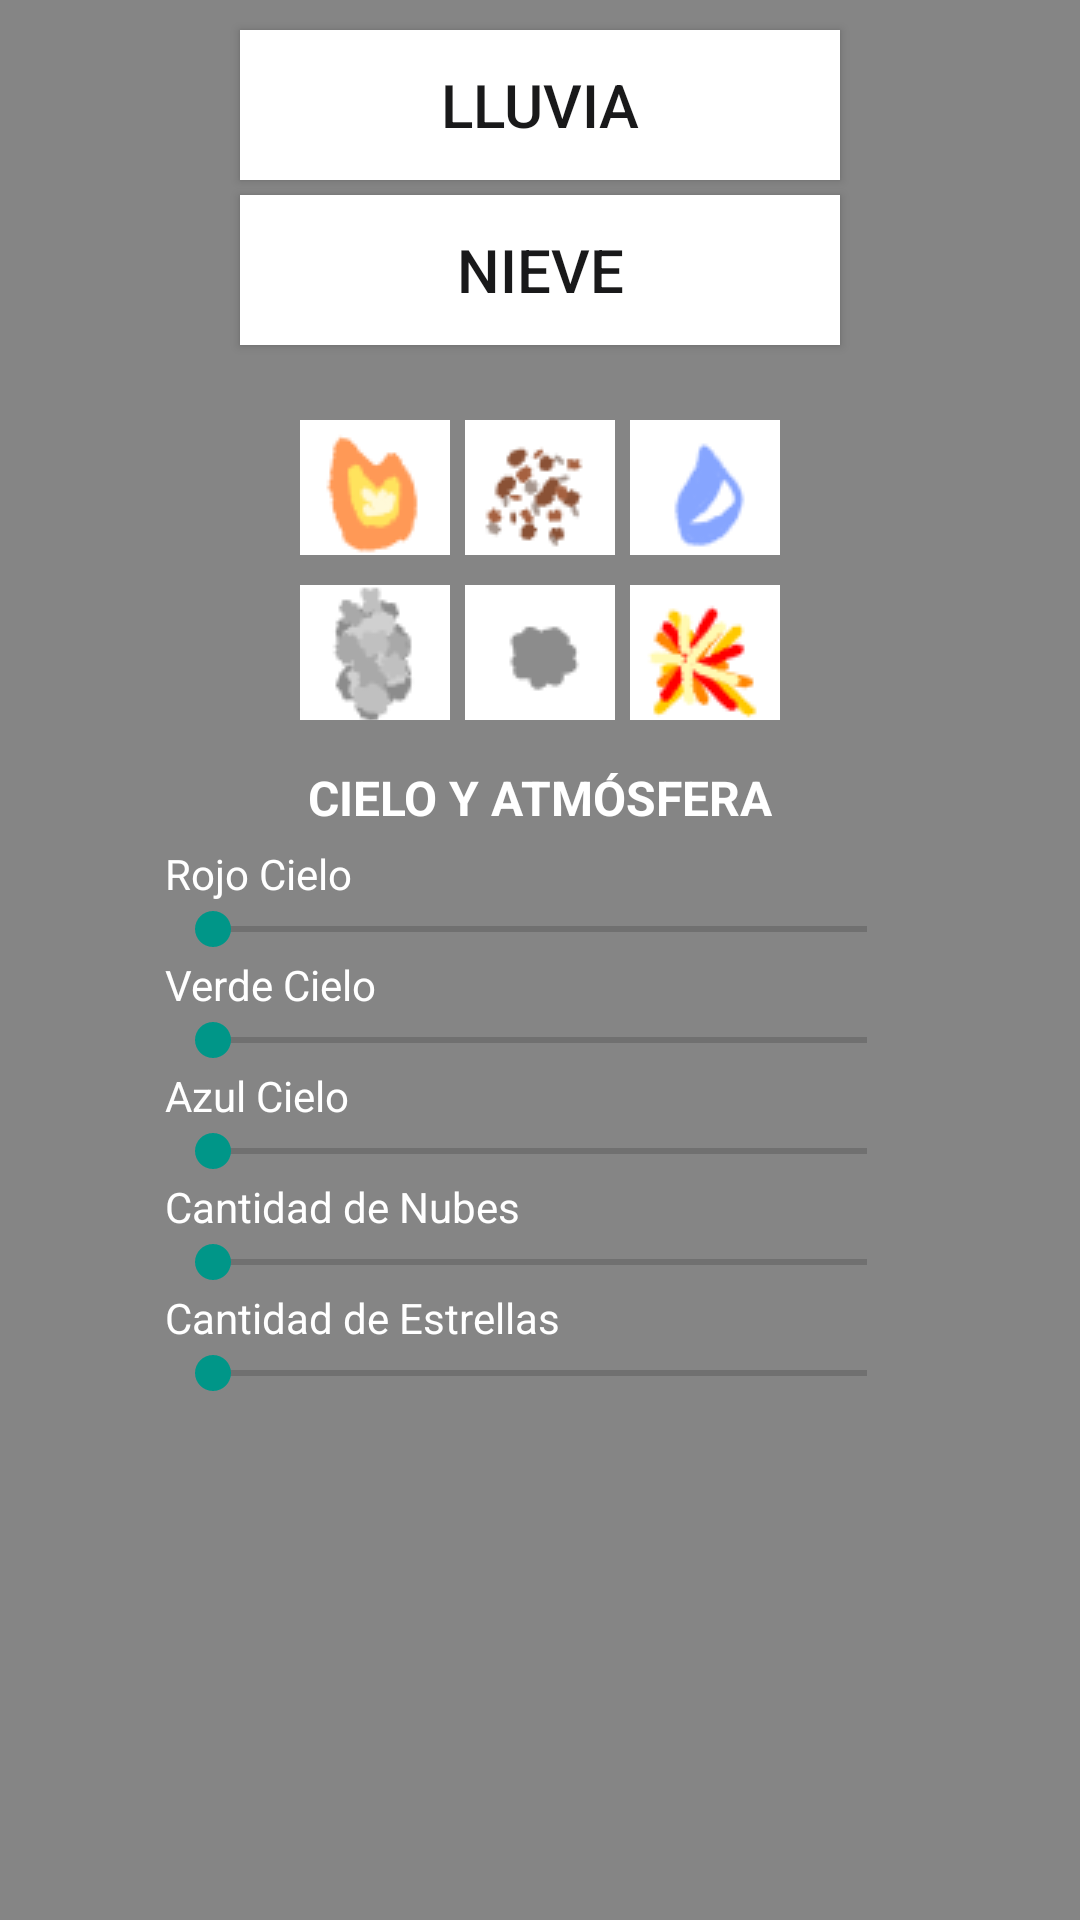

Named icons in this screenshot (1080×1920) and their bounding boxes, (x1, y1, x2, y2):
imagua: (630, 420, 780, 555)
imexplocion: (630, 585, 780, 720)
imfuego: (300, 420, 450, 555)
imhumo: (300, 585, 450, 720)
imtierra: (465, 420, 615, 555)
